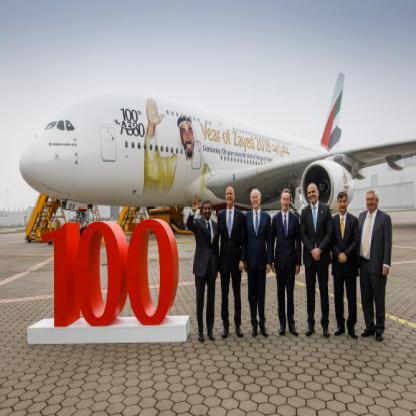CIV_Plane: (13, 68, 415, 238)
